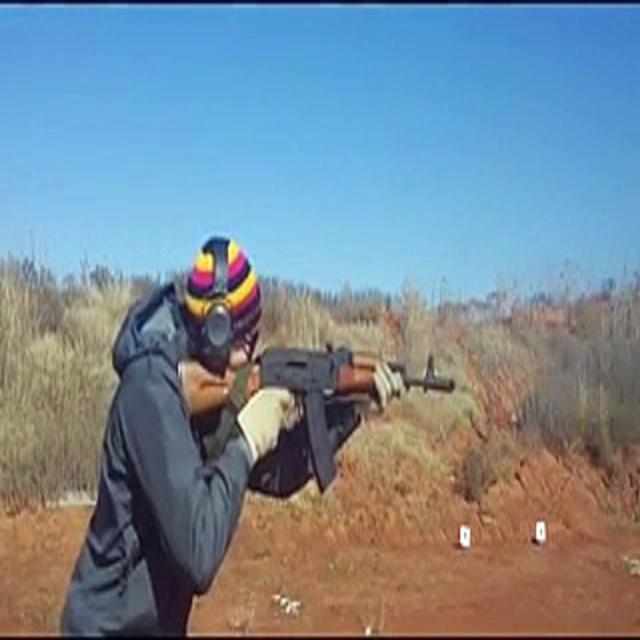weapon: (176, 342, 456, 497)
